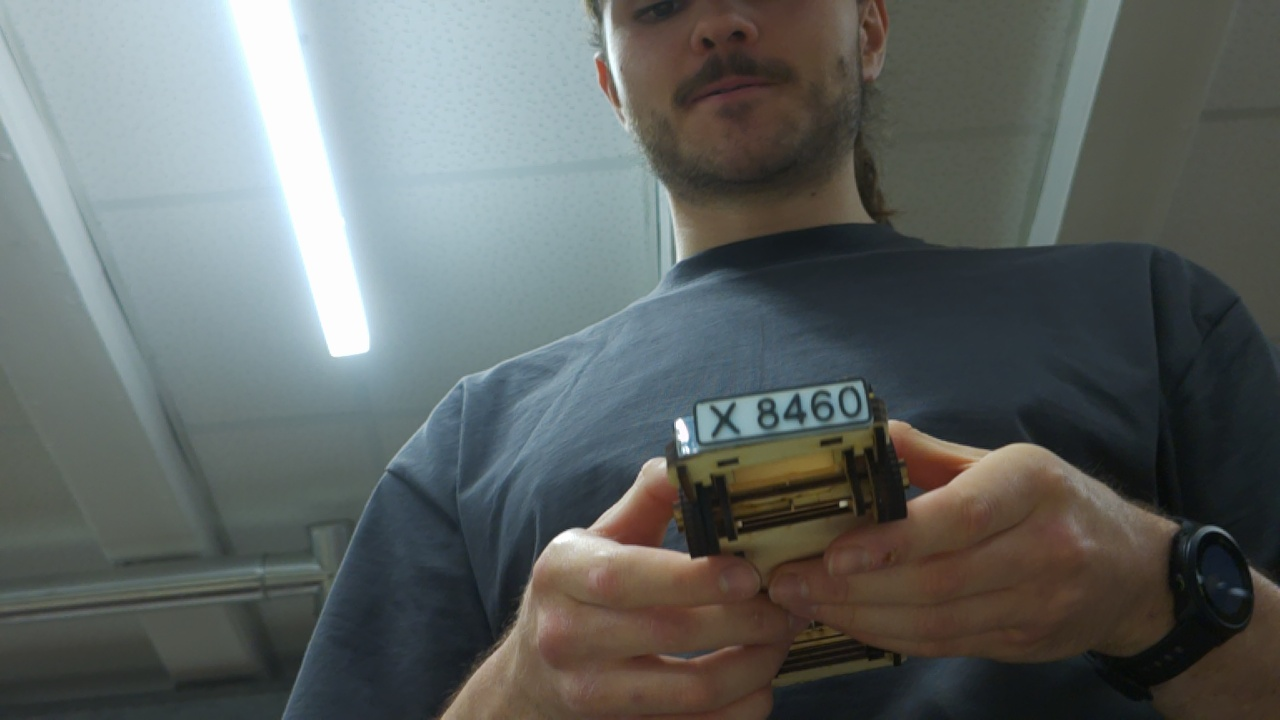license_plate: (687, 372, 879, 451)
